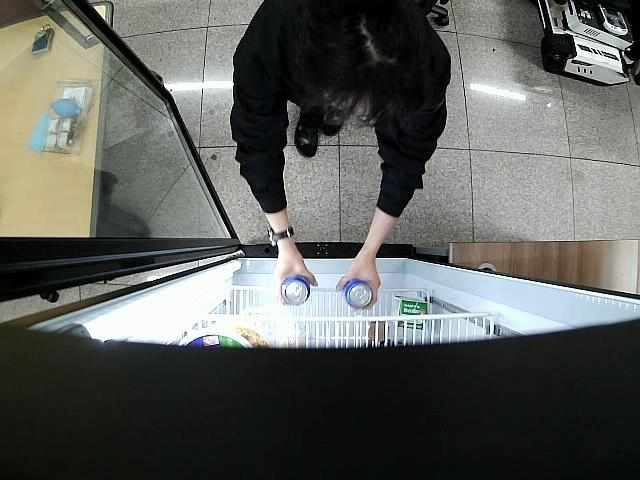13_pocariSweat: (282, 274, 312, 306), (344, 278, 374, 309)
